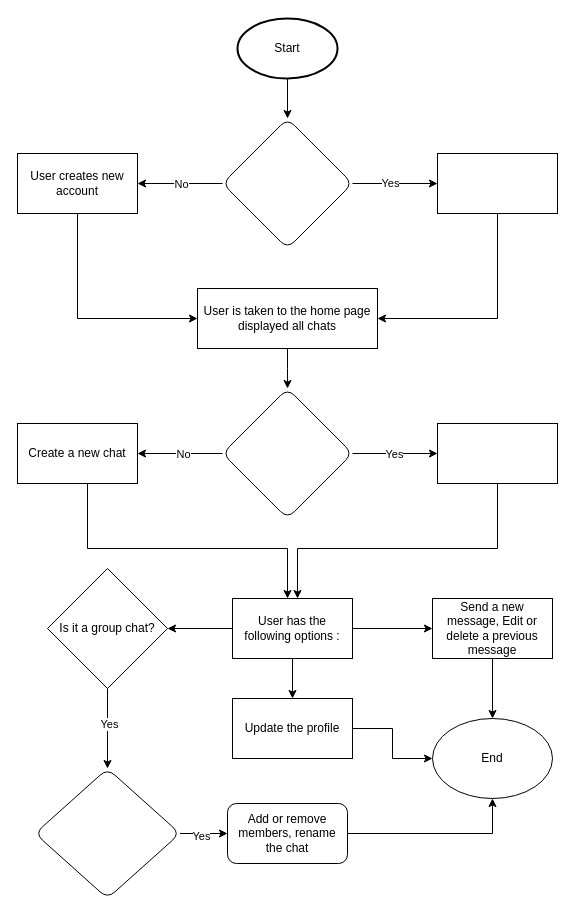
Some shapes in this 575 by 916 pixel diagram are drawn without their labels. The centre of each missing label's shape, as x and y in pixels:
"Click on that chat to open it" belongs at pixel 497 453.
"Desired chat exists?" belongs at pixel 287 453.
"Is the user group admin?" belongs at pixel 107 833.
"User already registered?" belongs at pixel 287 183.
"User logs in" belongs at pixel 497 183.
